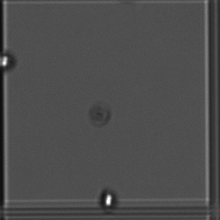Dead Cell: (87, 100, 112, 129)
Living Cell: (95, 187, 118, 210), (1, 51, 18, 73)
